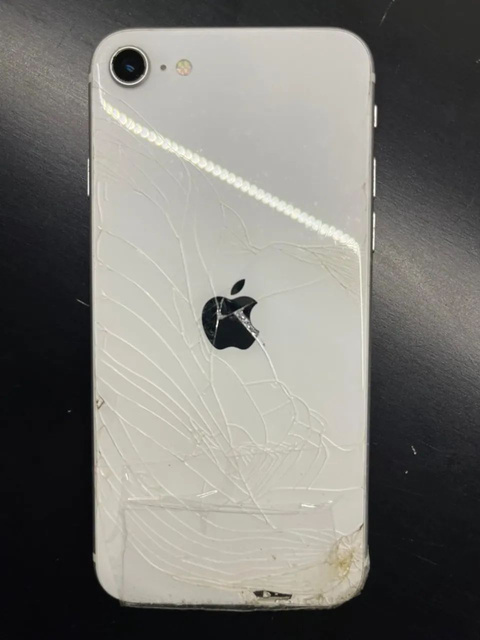crack_phone: (71, 13, 388, 616)
